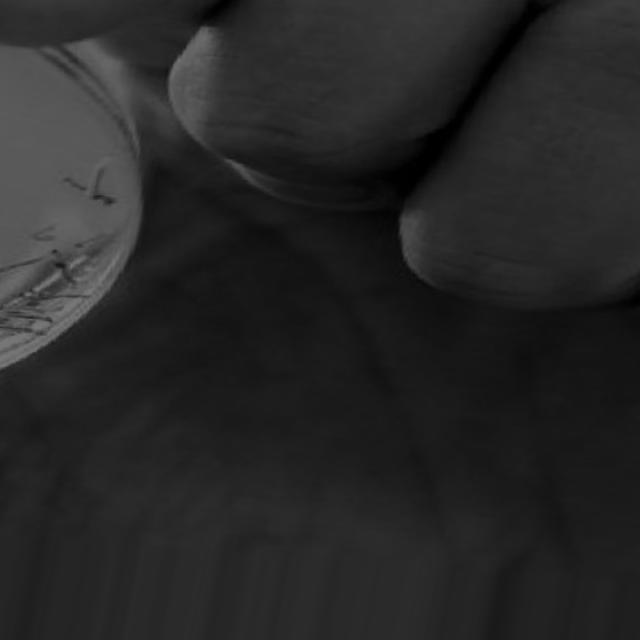larvas: (1, 254, 38, 278), (22, 292, 91, 304), (0, 324, 47, 339), (0, 310, 56, 321), (64, 175, 88, 194), (36, 220, 54, 243), (56, 263, 74, 285), (95, 163, 104, 193), (94, 196, 113, 207)
